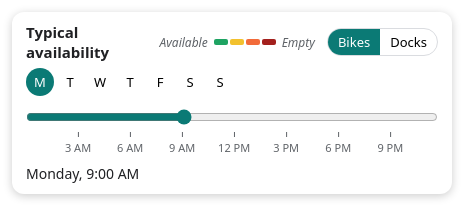
App › the slider updates the label
The width and height of the screenshot is (473, 217).
Set the slider named "Time of day" to "37" at x=188, y=117, box left=26, top=109, right=438, bottom=125
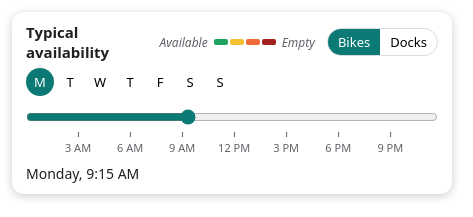
Now the text "Monday, 9:15 AM" is shown, box left=26, top=164, right=139, bottom=182
